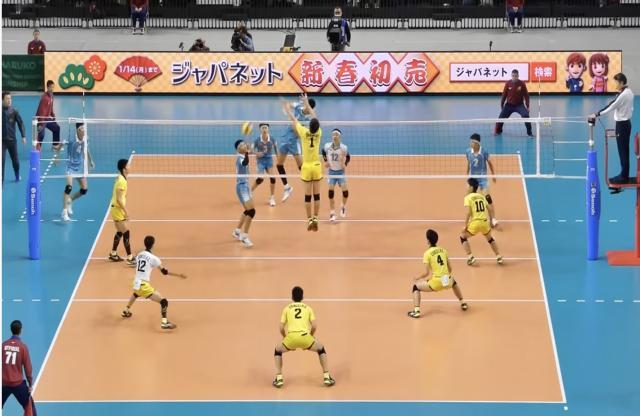block: (276, 92, 328, 240)
